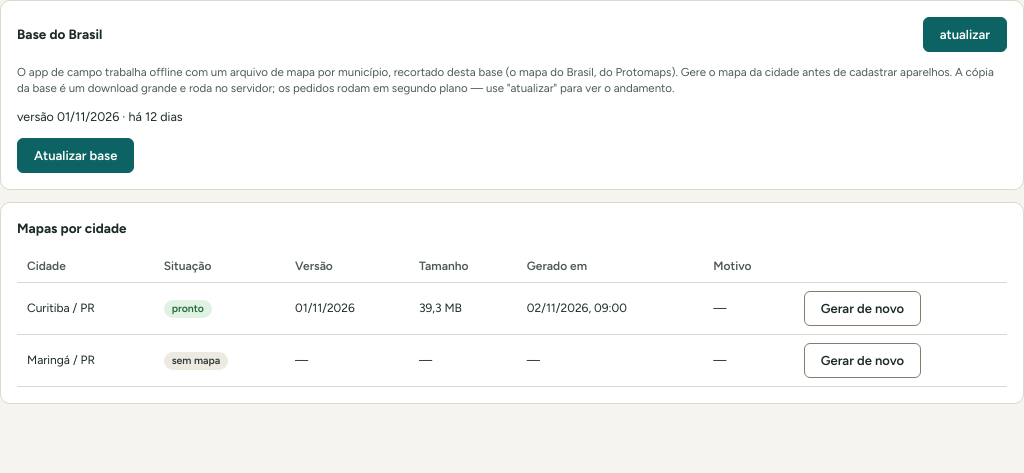
Test: FieldMaps › errors da mutation aparecem; nada é relido como sucesso
The width and height of the screenshot is (1024, 473).
Click the button with aria-label "Gerar de novo Maringá" at (862, 361), box x1=804 y1=343 x2=921 y2=378
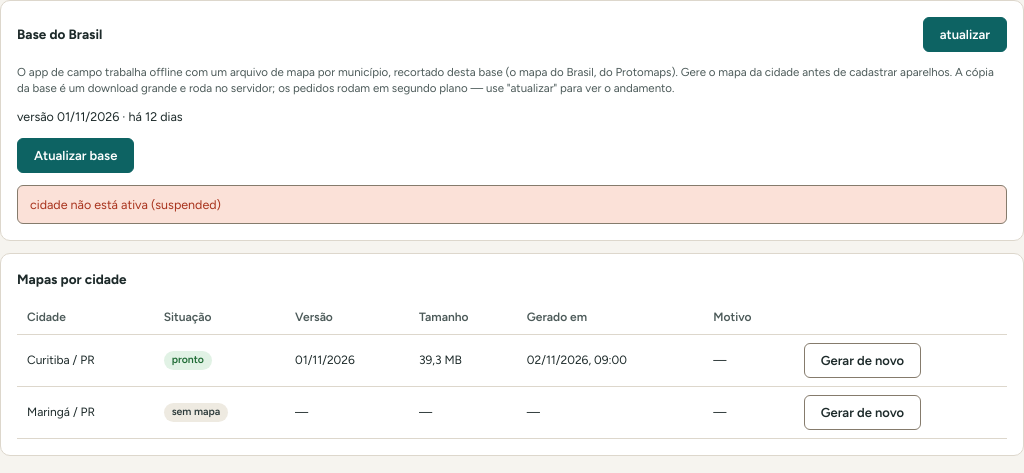
Expected: the message reads "cidade não está ativa (suspended)", x1=30 y1=197 x2=221 y2=212
